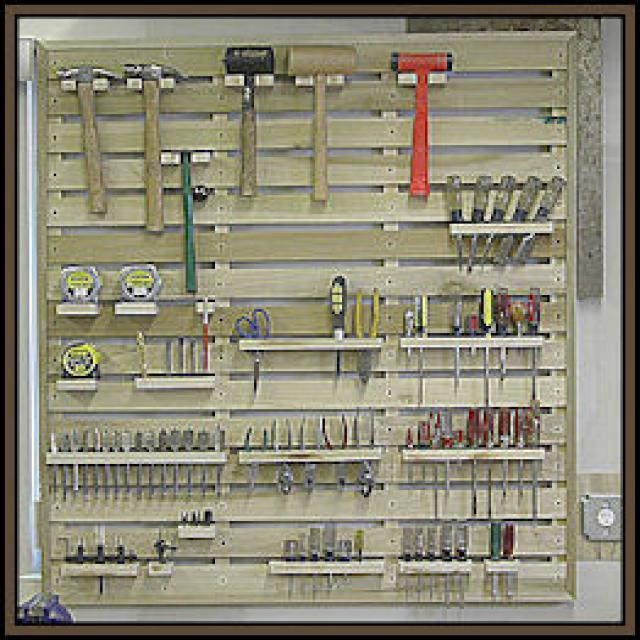hammer: (279, 38, 364, 212), (143, 141, 229, 300), (116, 55, 188, 244), (51, 59, 130, 226), (382, 39, 455, 208), (216, 38, 286, 212)
pliers: (349, 283, 392, 390), (353, 396, 393, 504), (316, 408, 352, 497), (234, 423, 275, 497), (296, 410, 326, 500), (268, 418, 298, 499)
screwdriver: (487, 174, 551, 274), (514, 178, 574, 268), (474, 166, 522, 272), (314, 269, 356, 386), (522, 394, 550, 524), (460, 163, 492, 272), (439, 172, 472, 276), (520, 282, 550, 390), (475, 277, 500, 402), (492, 286, 516, 388), (462, 400, 482, 520), (480, 520, 508, 602), (410, 283, 432, 387), (451, 520, 474, 616), (444, 288, 466, 387), (318, 518, 344, 598), (437, 402, 457, 502), (499, 522, 526, 594), (274, 535, 302, 602), (438, 520, 457, 608), (354, 523, 374, 603), (424, 520, 441, 600), (500, 399, 510, 505), (414, 522, 426, 605), (308, 522, 320, 604)
